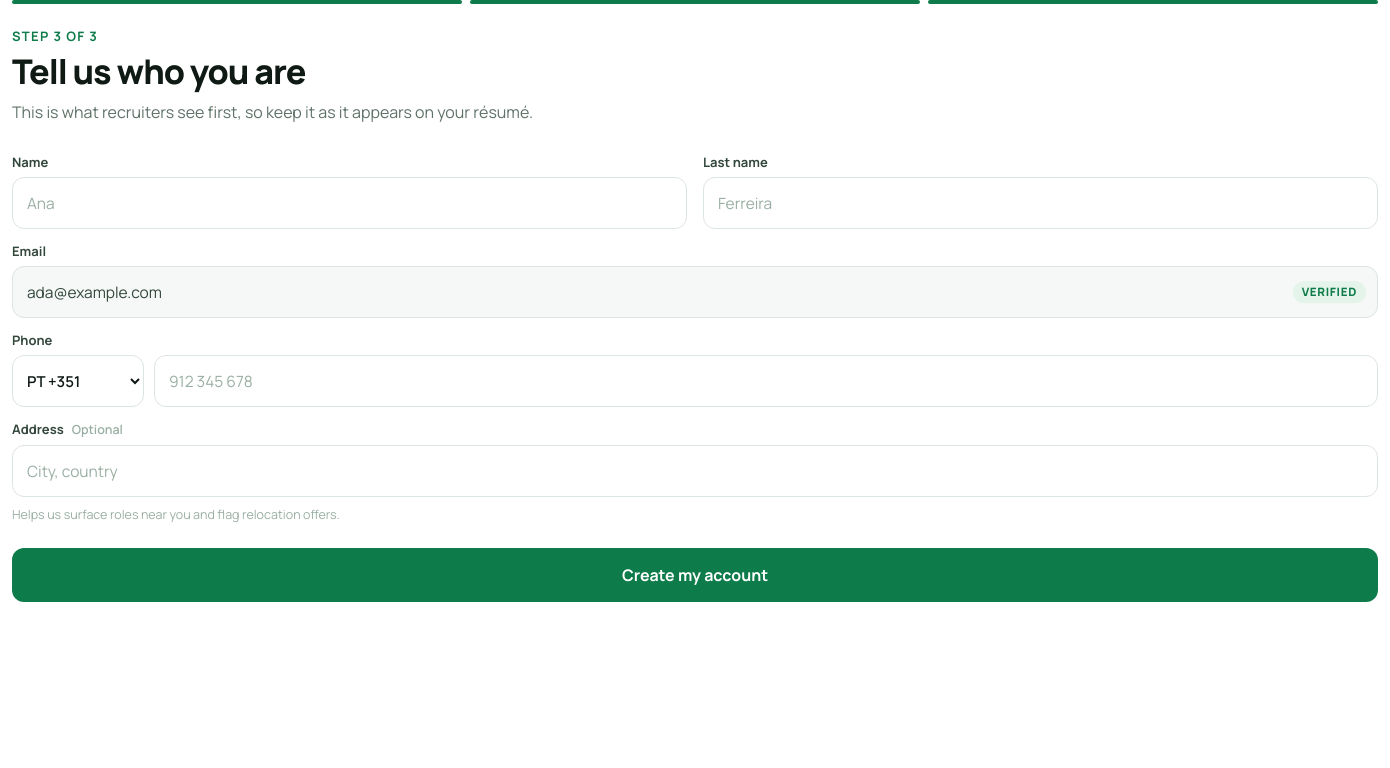
it: SignUpFlow › shows the message when the information could not be saved
Type "Ada" into the field labelled "Name" at (350, 203), box [12,177,687,229]
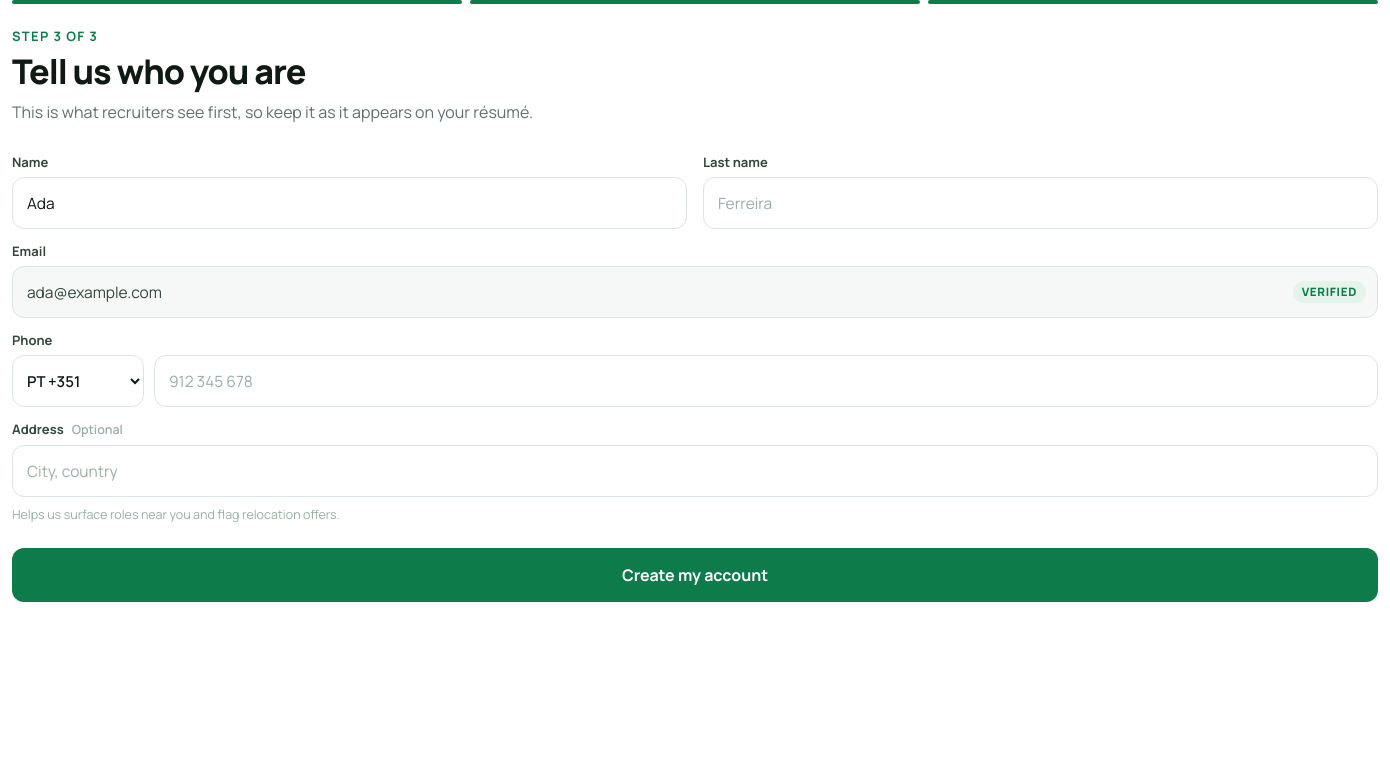
Type "Lovelace" into the field labelled "Last name" at (1040, 203), box [703,177,1378,229]
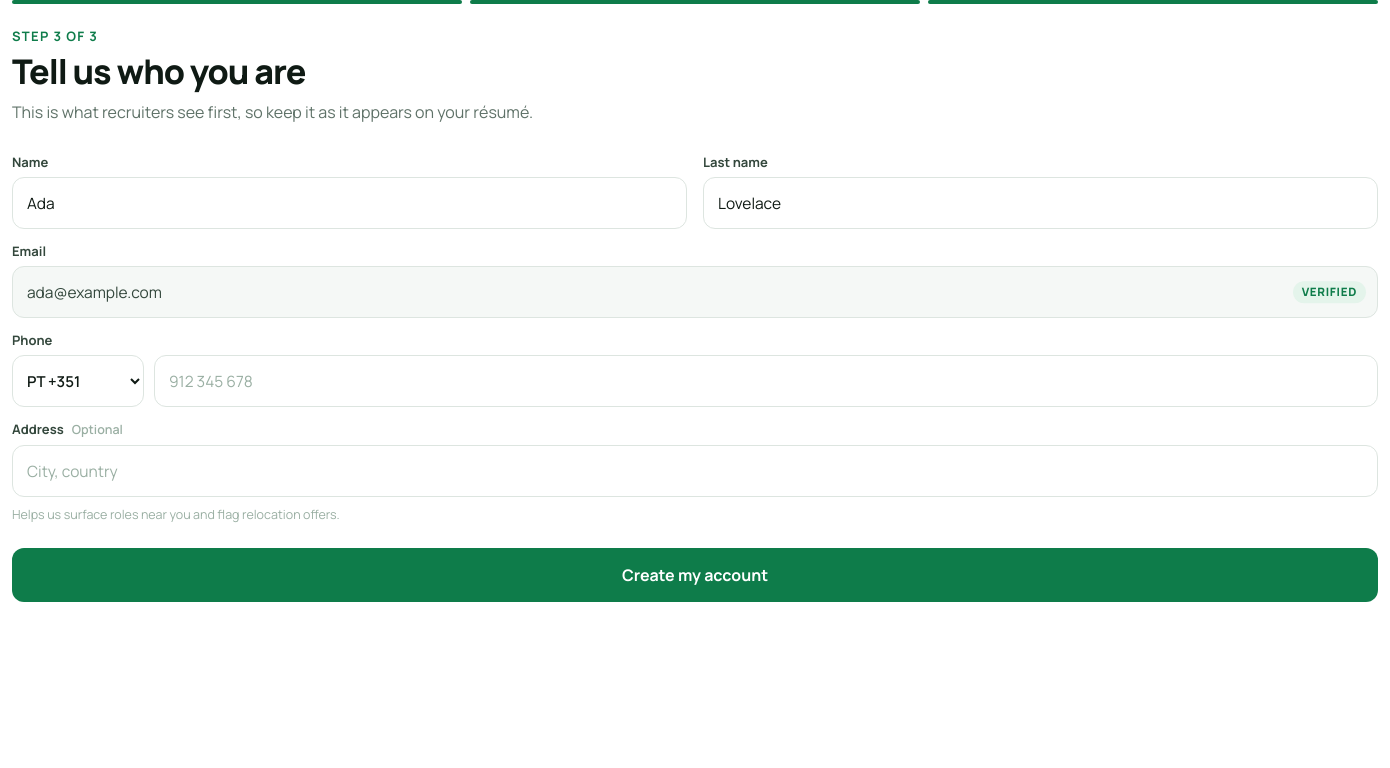
Type "912345678" into the field labelled "Phone" at (766, 381), box [154,355,1378,407]
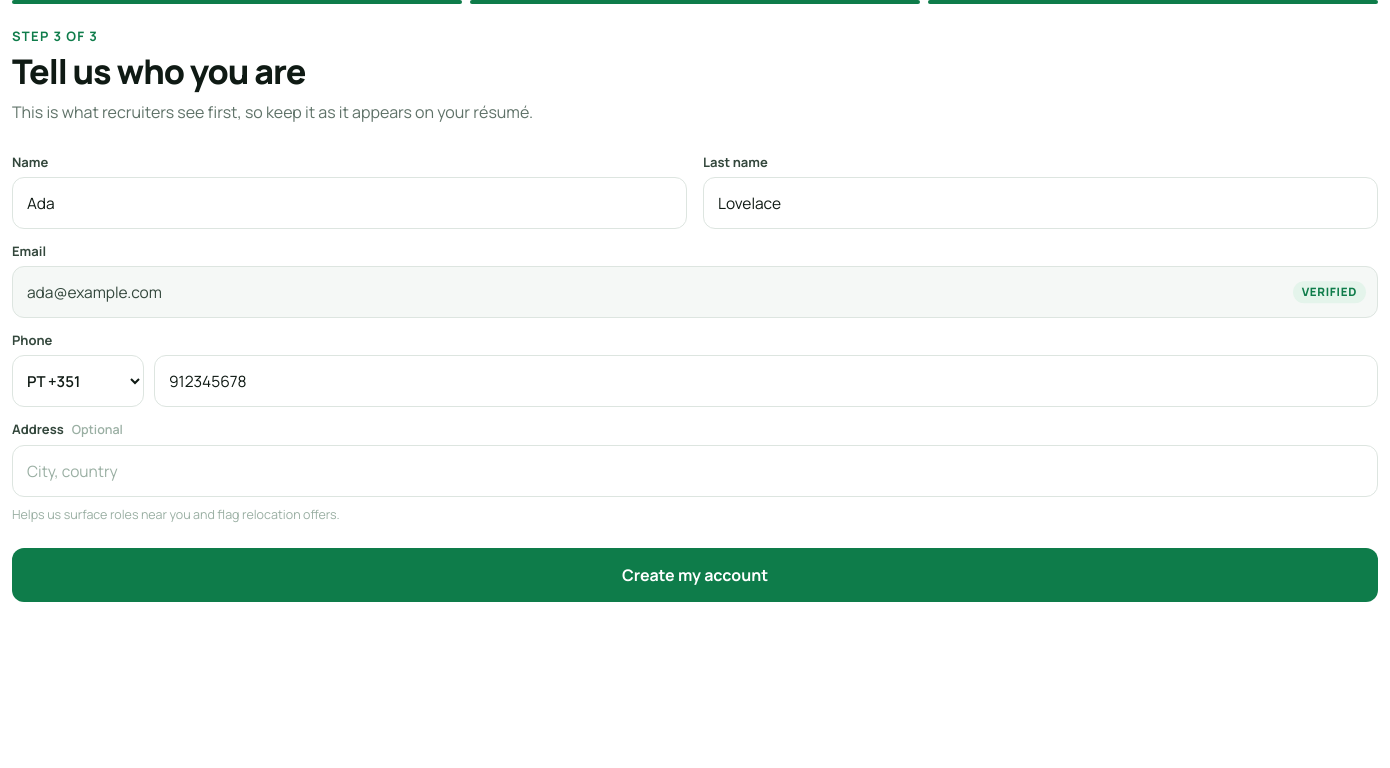
Click the button "Create my account" at (695, 575), box [12,548,1378,602]
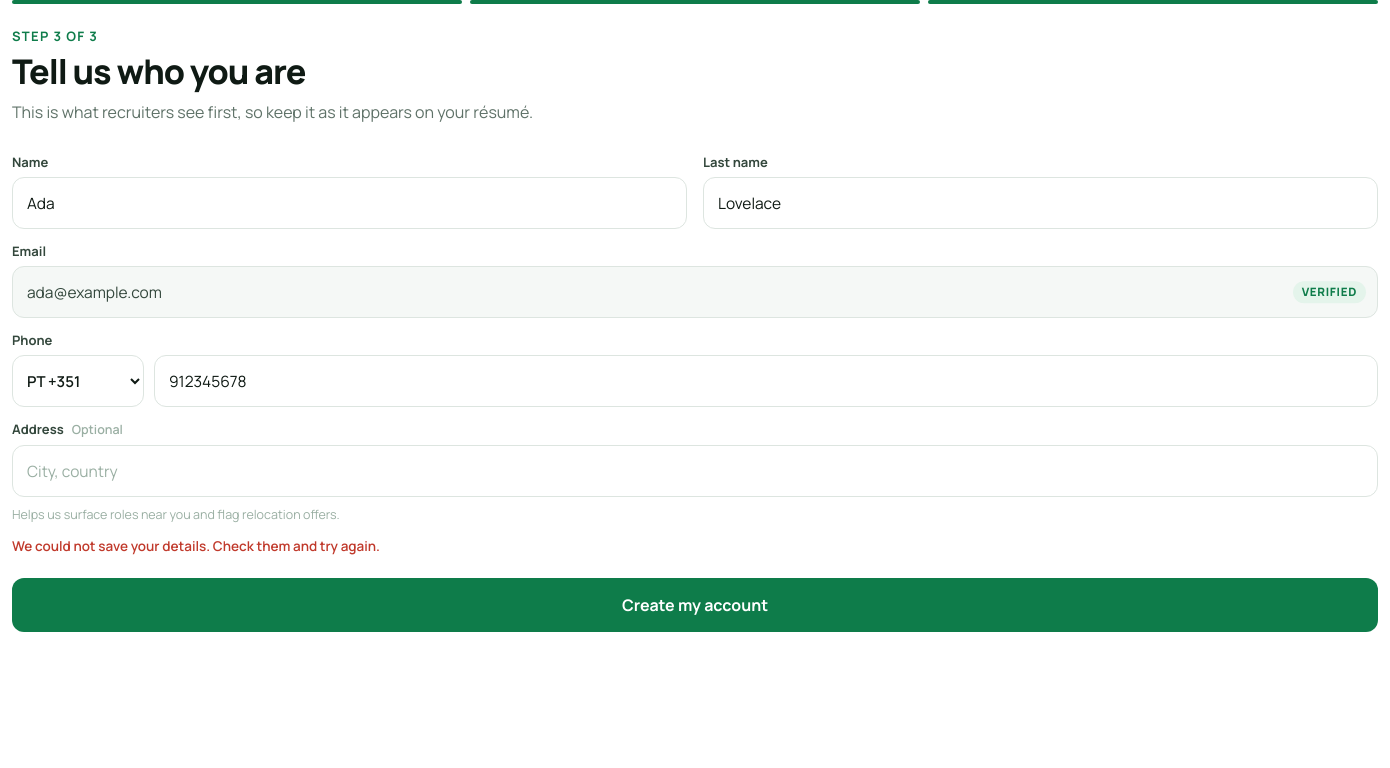
Expected: the heading reads "Tell us who you are", [12,48,305,94]
Expected: the message shows "We could not save your details", [12,537,380,555]
